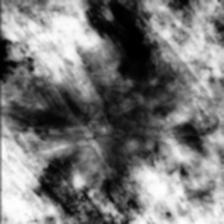Potentially Malignant Skin Tumors: (95, 0, 154, 72), (0, 22, 36, 78)
